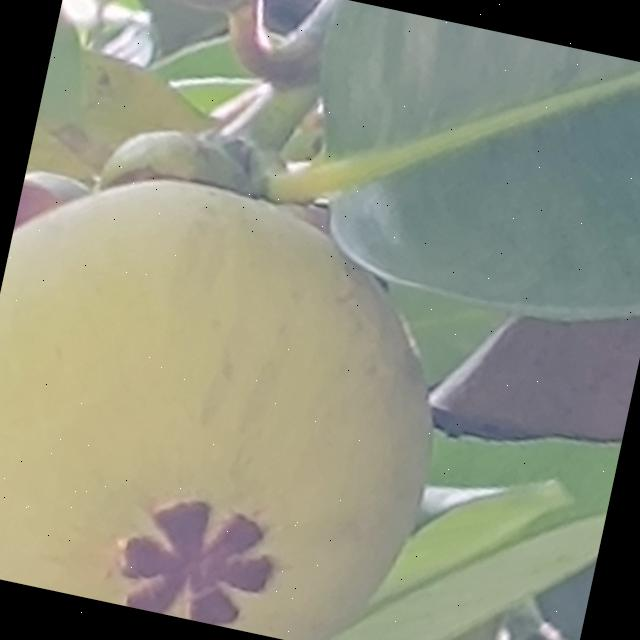mangosteen: (0, 109, 553, 640)
